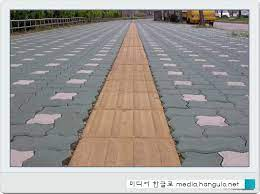guide_blocks: (71, 82, 181, 164), (106, 38, 153, 82), (125, 19, 138, 37)
